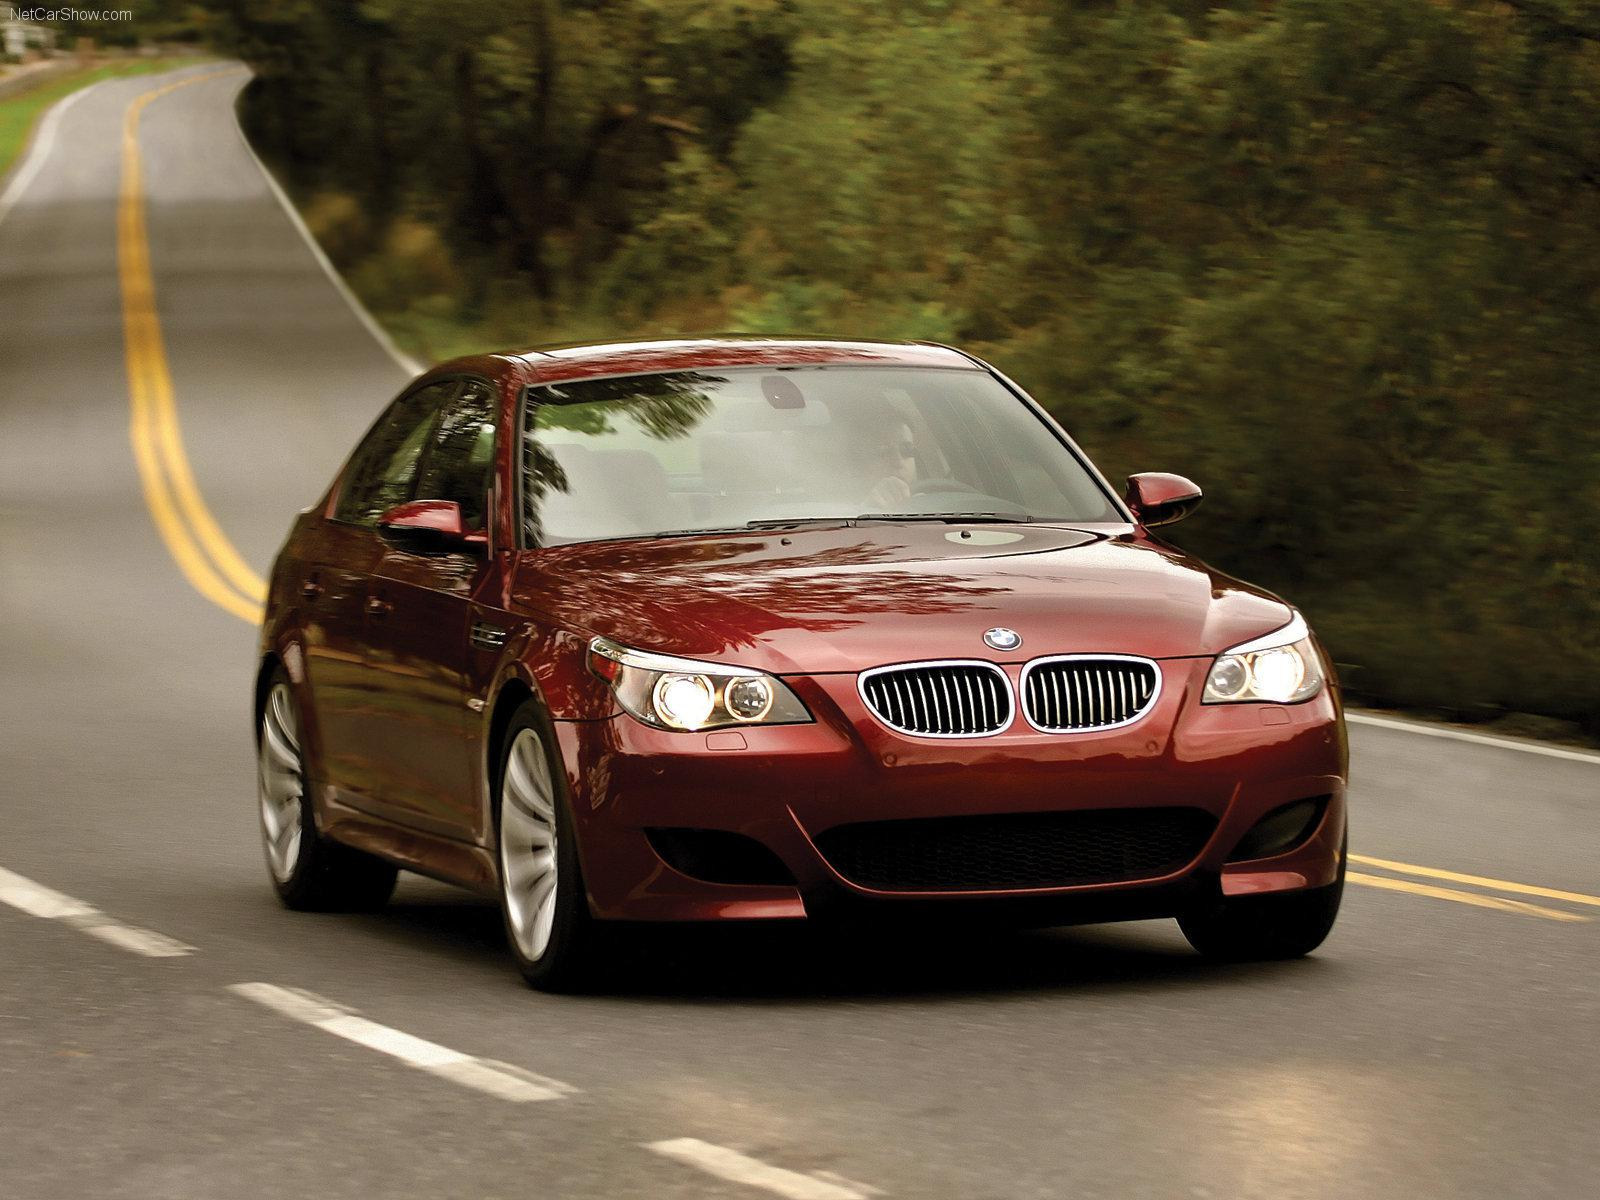Car: (191, 271, 1421, 1047)
